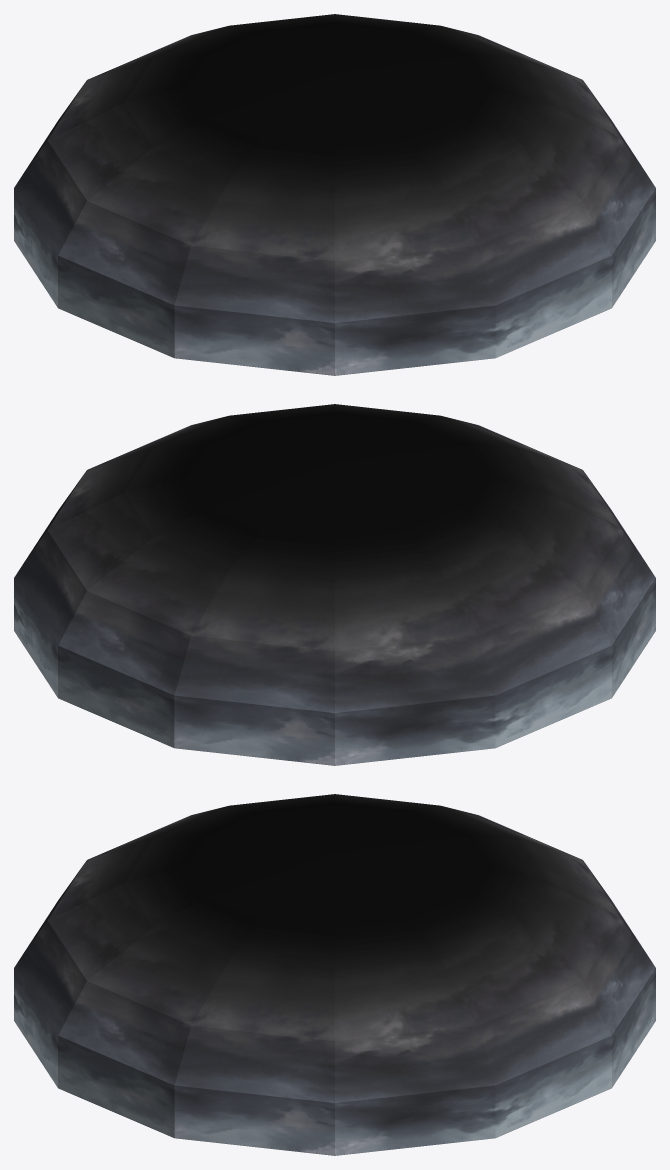
3 renders of one model, top to bottom at view 1: azimuth 30°, elevation 25°; view 2: azimuth 150°, elevation 25°; view 3: azimuth 270°, elevation 25°, orthographic.
Visible parts, largest first — view 1: mesh00; view 2: mesh00; view 3: mesh00.
Part boxes in pixels (<box>): mesh00: <box>14,14,655,375</box>; mesh00: <box>14,404,655,765</box>; mesh00: <box>14,794,655,1155</box>.
Size of the model in its own units: 95609 by 27803 by 96000.
